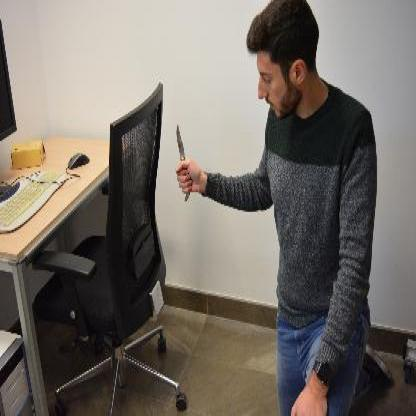knife: (173, 120, 193, 200)
